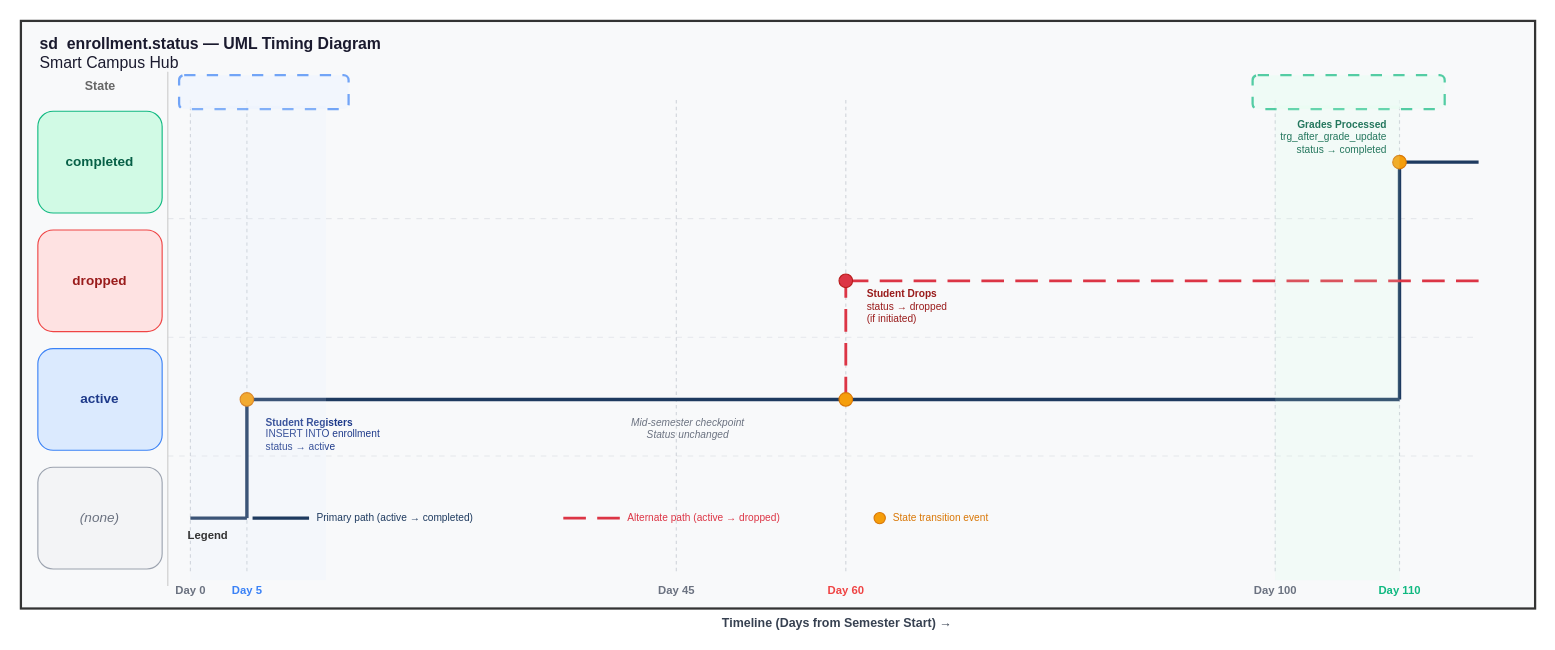
The diagram is 1555 pixels wide and 650 high, and some of its shapes have lost their labels. Here are the shapes that lost their labels. From the top down, the box of each, then its label:
(177, 73, 349, 110): Registration Window (Day 0 – Day 14)
(1251, 73, 1445, 110): Grade Submission Cutoff (Day 100 – Day 110)
